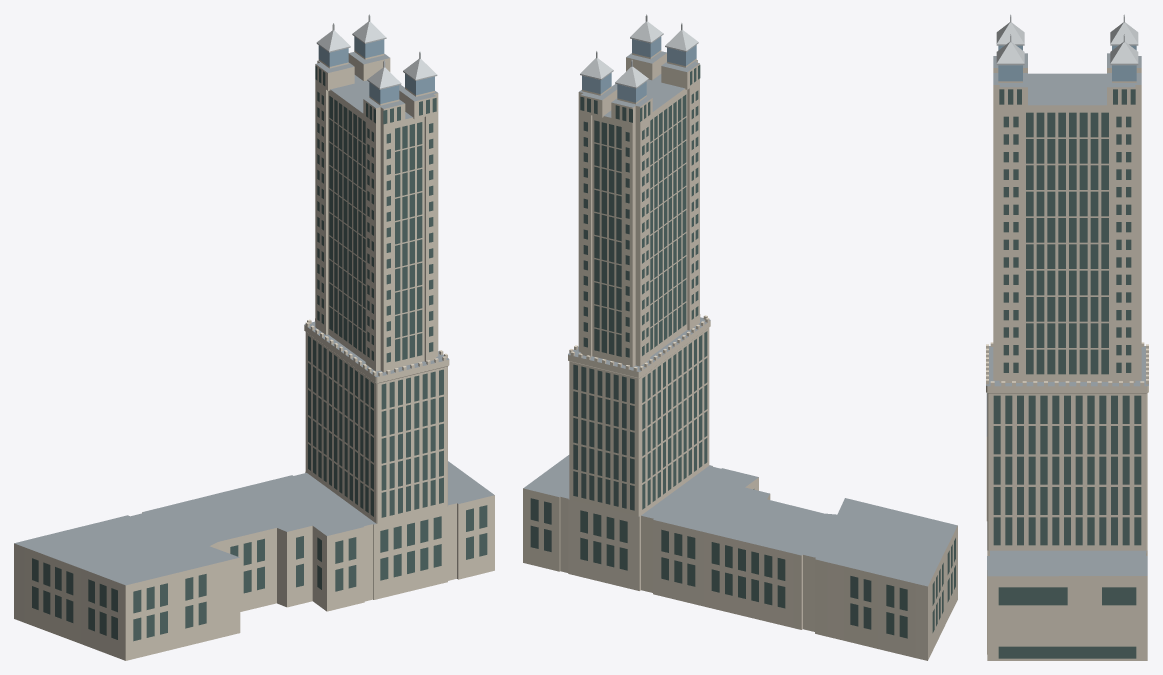
The model's file is chi-900-north-michigan.glb.
3 renders of one model, left to right at view 1: azimuth 30°, elevation 25°; view 2: azimuth 150°, elevation 25°; view 3: azimuth 270°, elevation 25°, orthographic. The views are drawn at different scales.
Visible parts, largest first — view 1: 900 North Michigan; view 2: 900 North Michigan; view 3: 900 North Michigan.
Boxes of the visible parts, x1,y1,x2,y2 form: 900 North Michigan: (14,14,494,660); 900 North Michigan: (523,14,957,660); 900 North Michigan: (986,14,1148,660).
Size of the model in its own units: 216 by 265 by 66.2.
